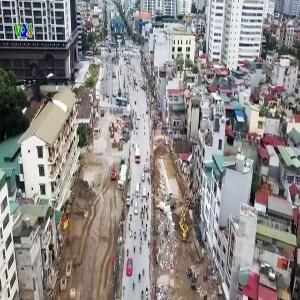drone: (16, 71, 73, 128)
